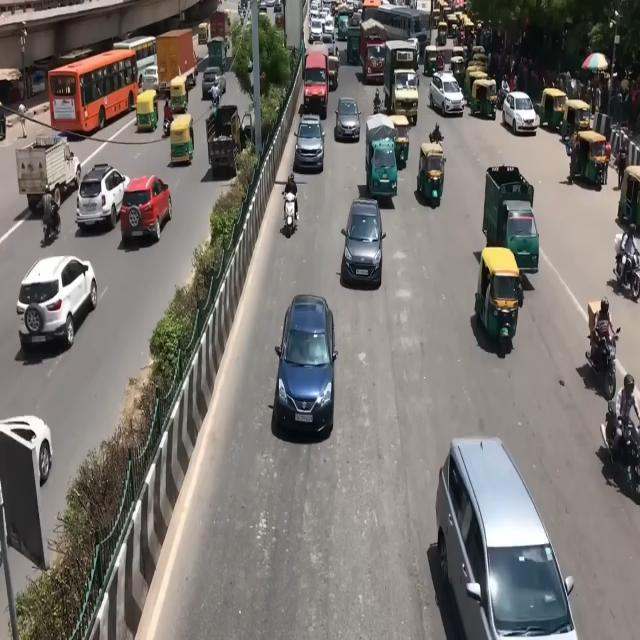auto: (475, 245, 522, 348), (572, 128, 610, 188), (418, 140, 447, 206), (561, 98, 591, 142), (169, 114, 194, 165), (470, 78, 498, 122), (540, 87, 568, 131), (391, 114, 412, 166), (464, 64, 488, 106), (136, 89, 158, 132), (170, 74, 190, 116), (449, 54, 467, 89), (423, 45, 441, 77), (436, 20, 448, 45), (198, 22, 210, 44)
bike-auto: (603, 400, 640, 486), (586, 319, 618, 399), (614, 232, 640, 300), (283, 173, 302, 250), (162, 90, 173, 138)
